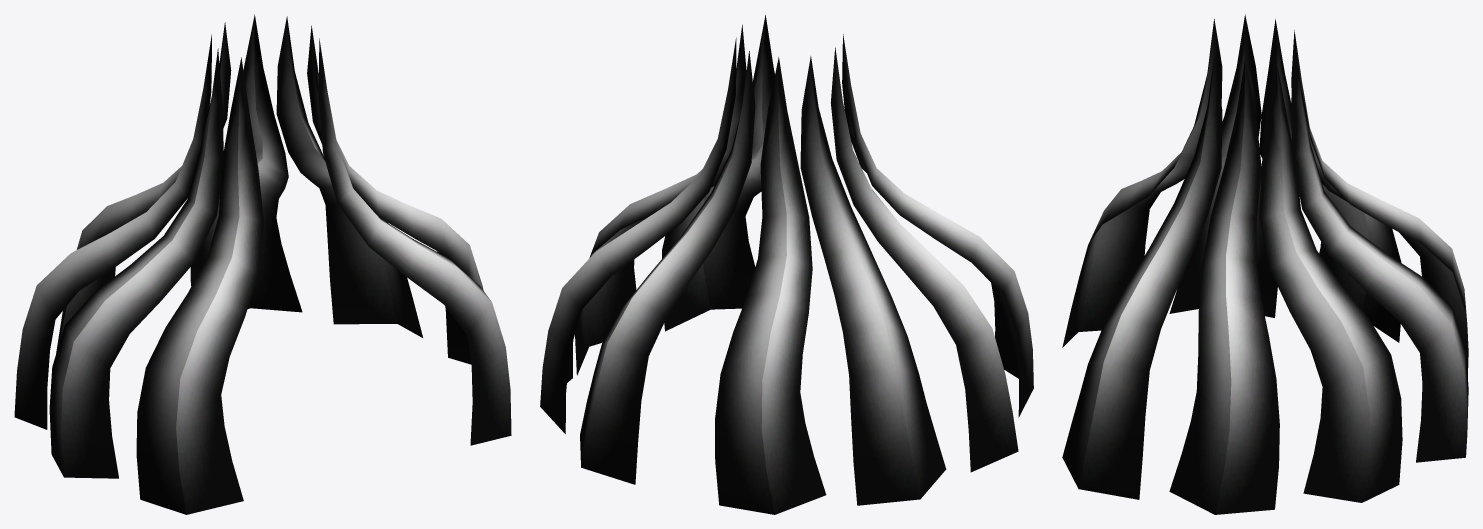
Rendered from vfx_kurp_0586.dae.
3 renders of one model, left to right at view 1: azimuth 30°, elevation 25°; view 2: azimuth 150°, elevation 25°; view 3: azimuth 270°, elevation 25°, orthographic.
Visible parts, largest first — view 1: vfx_kurp_0586; view 2: vfx_kurp_0586; view 3: vfx_kurp_0586.
Boxes of the visible parts, box(x1,y1,x2,y2) form: vfx_kurp_0586: box(14, 14, 511, 514); vfx_kurp_0586: box(540, 15, 1033, 514); vfx_kurp_0586: box(1062, 14, 1468, 514).
Bounding box in the file's own units: 9.49 × 7.81 × 8.
Materials: 1 (1 with a texture image).
